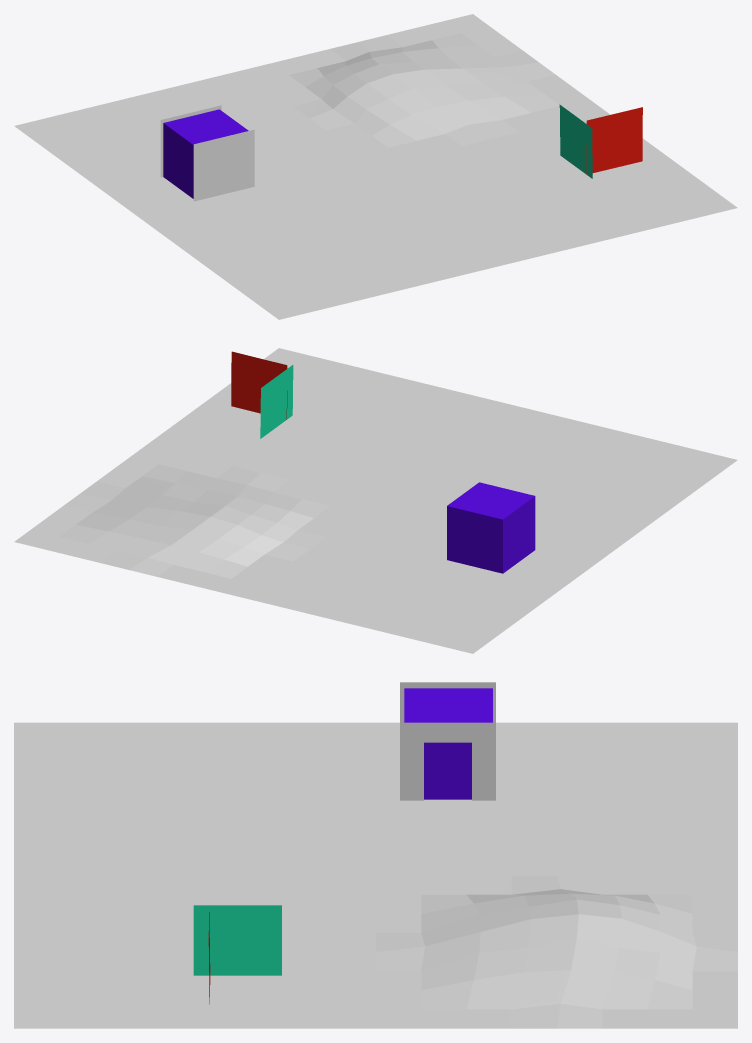
Rendered from level1.glb.
3 views of the same model, one above another, from view 1: azimuth 30°, elevation 25°; view 2: azimuth 150°, elevation 25°; view 3: azimuth 270°, elevation 25° (orthographic). The views are drawn at different scales.
Parts seen in each view (by area): view 1: ground, Plane.003, blue_cube, red_plane, green_plane; view 2: ground, blue_cube, red_plane, green_plane; view 3: ground, green_plane, blue_cube, Plane.001, Plane.
Part boxes in pixels (x1,y1,x2,y2): ground: (14,14,737,319); Plane.003: (193,129,254,201); blue_cube: (163,109,248,198); red_plane: (586,107,642,174); green_plane: (559,104,592,178); ground: (14,348,737,653); blue_cube: (447,482,535,573); red_plane: (231,351,287,419); green_plane: (260,365,293,438); ground: (14,722,737,1028); green_plane: (193,905,281,975); blue_cube: (404,688,492,799); Plane.001: (400,722,495,800); Plane: (400,682,495,722).
Bounding box in the file's own units: 16.36 × 2.21 × 16.36.
